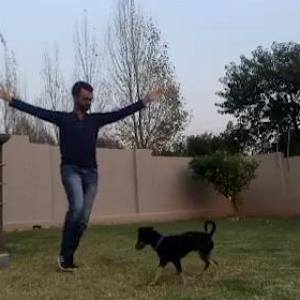takeoff: (1, 85, 162, 275)
